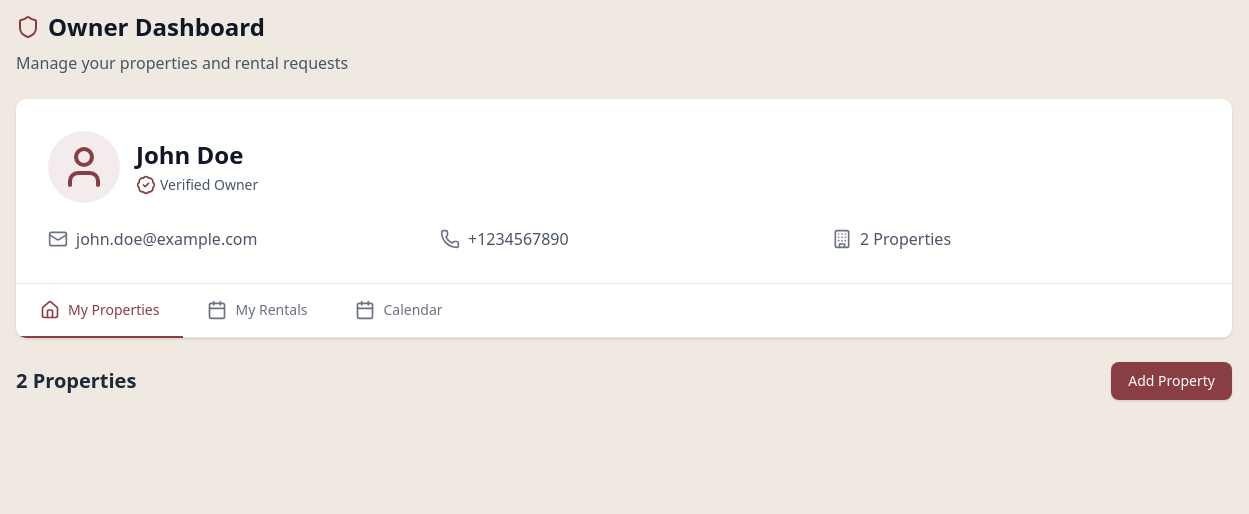
OwnerProfilePage › Tab Navigation › should switch to calendar tab when clicked
Click the button "Calendar" at [399, 311], box 332,284 -> 467,338
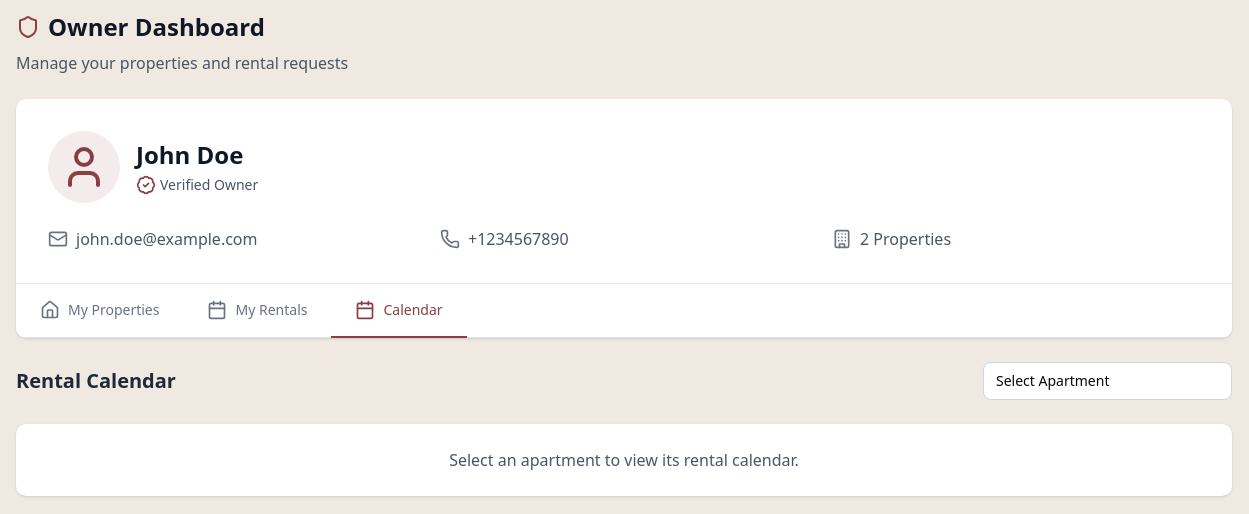
Now the heading "Rental Calendar" is shown, box 16,367 -> 176,395
